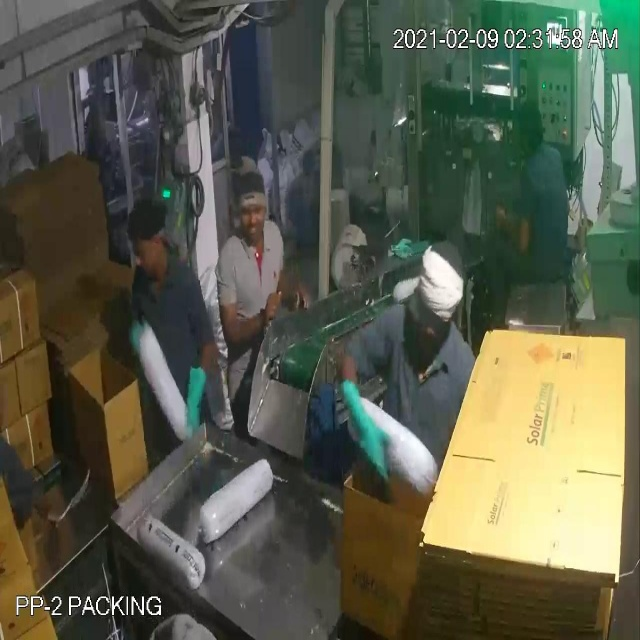Guantes: (327, 354, 400, 487), (173, 332, 211, 447)
Sin_guantes: (214, 282, 290, 354), (492, 201, 543, 260)
